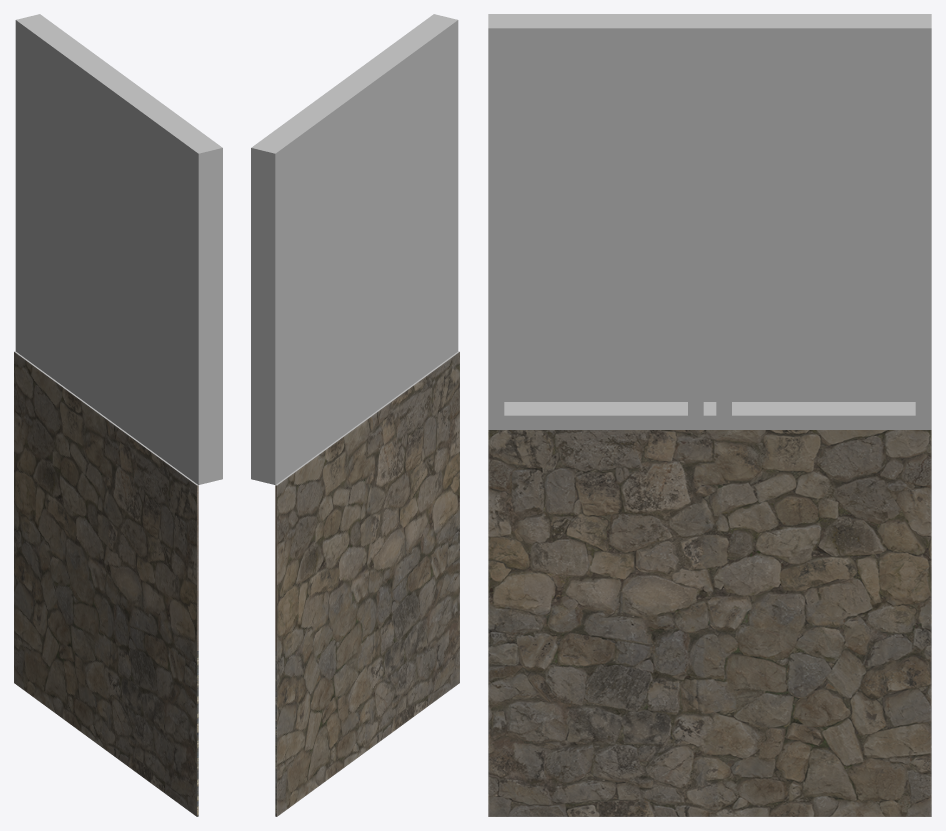
Rendered from HouseWall_2x2_v1.fbx.
The picture shows the model from 3 angles, left to right: view 1: azimuth 30°, elevation 25°; view 2: azimuth 150°, elevation 25°; view 3: azimuth 270°, elevation 25°; orthographic projection. The views are drawn at different scales.
Parts seen in each view (by area): view 1: Plane.012; view 2: Plane.012; view 3: Plane.012.
Boxes of the visible parts, box(x1,y1,x2,y2) form: Plane.012: box(14, 14, 222, 816); Plane.012: box(251, 14, 459, 816); Plane.012: box(488, 14, 931, 816).
Size of the model in its own units: 16.34 by 400 by 200.
